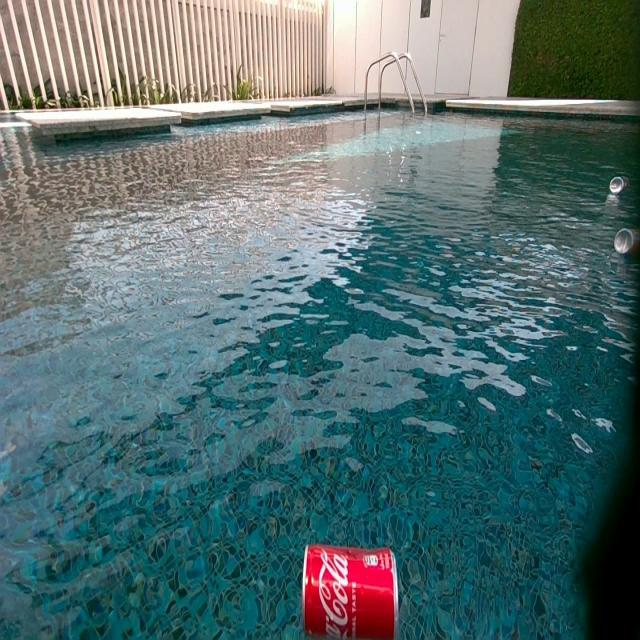Cans: (303, 539, 400, 637), (615, 228, 639, 257), (611, 176, 627, 195)
